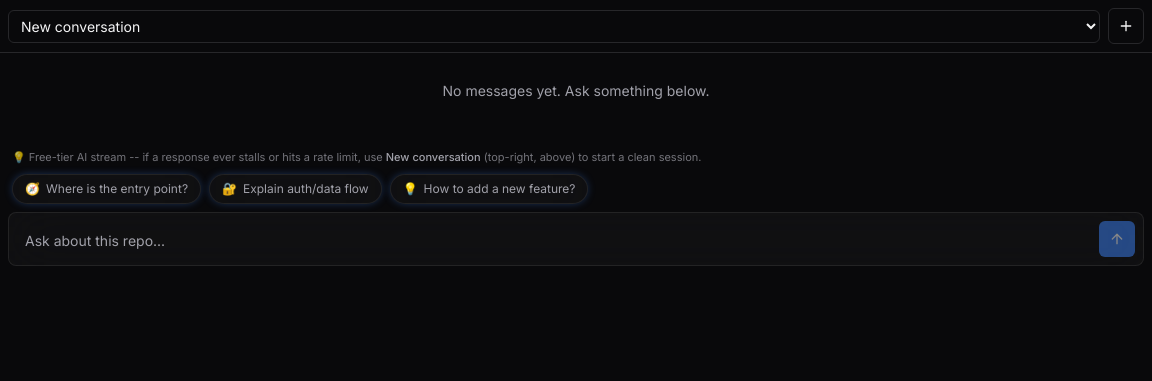
Test: ChatPanel error retry › falls back to the manual Retry button once automatic retries are exhausted
The width and height of the screenshot is (1152, 381).
Step 1. Type "Find the answer" into the text box with placeholder "Ask about this repo..." → (554, 240), box [17,224,1091,256]
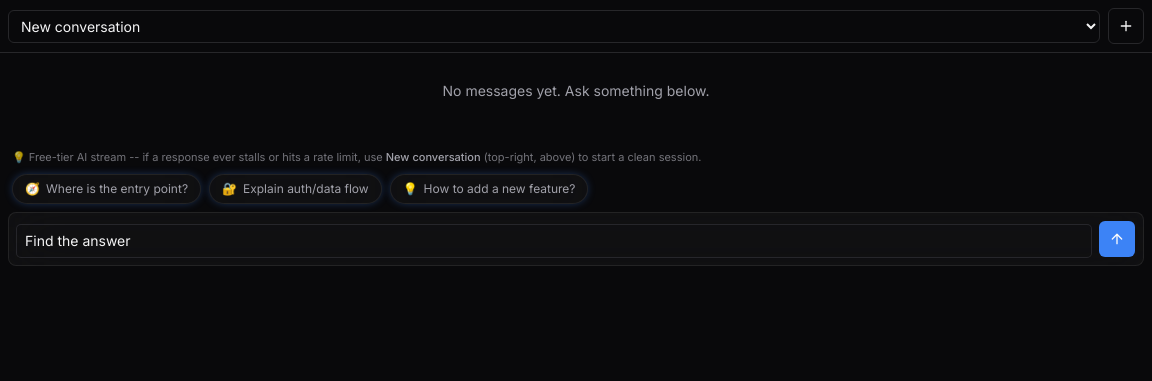
Step 2. Click the button named "Send message" → click(1117, 238), box [1099,220,1135,256]
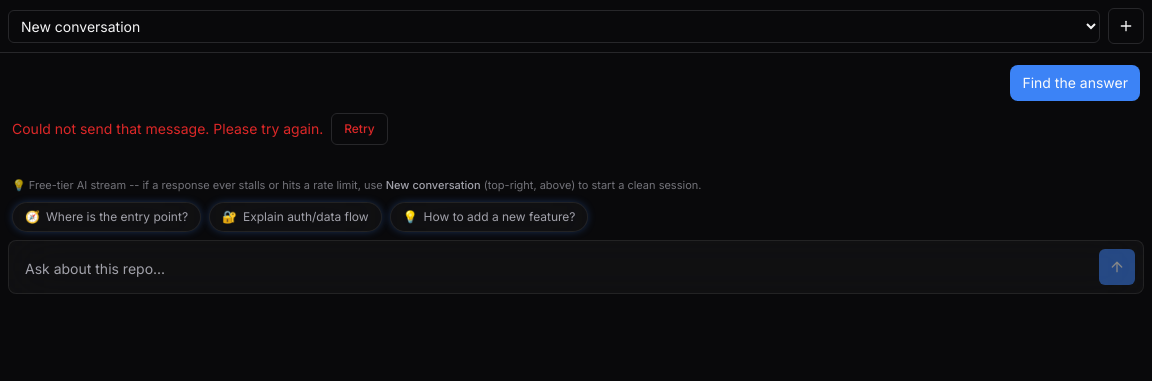
Now the text "Could not send that message. Please try again." is shown, box [12,119,323,139]
Step 3. Click the button "Retry" → click(359, 129), box [331,113,388,145]
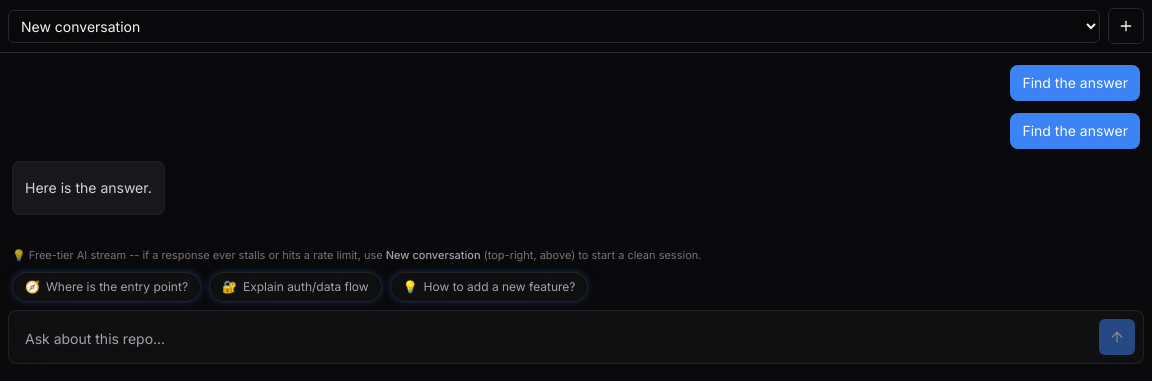
Now the text "Here is the answer." is shown, box [25,176,152,200]
Now the text "Could not send that message. Please try again." is gone
